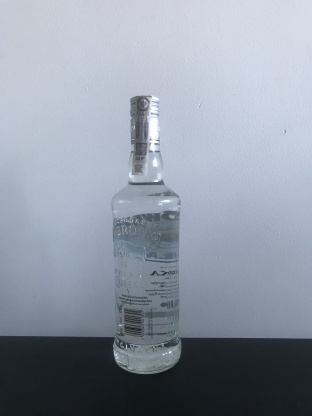nakretka: (128, 91, 162, 148)
